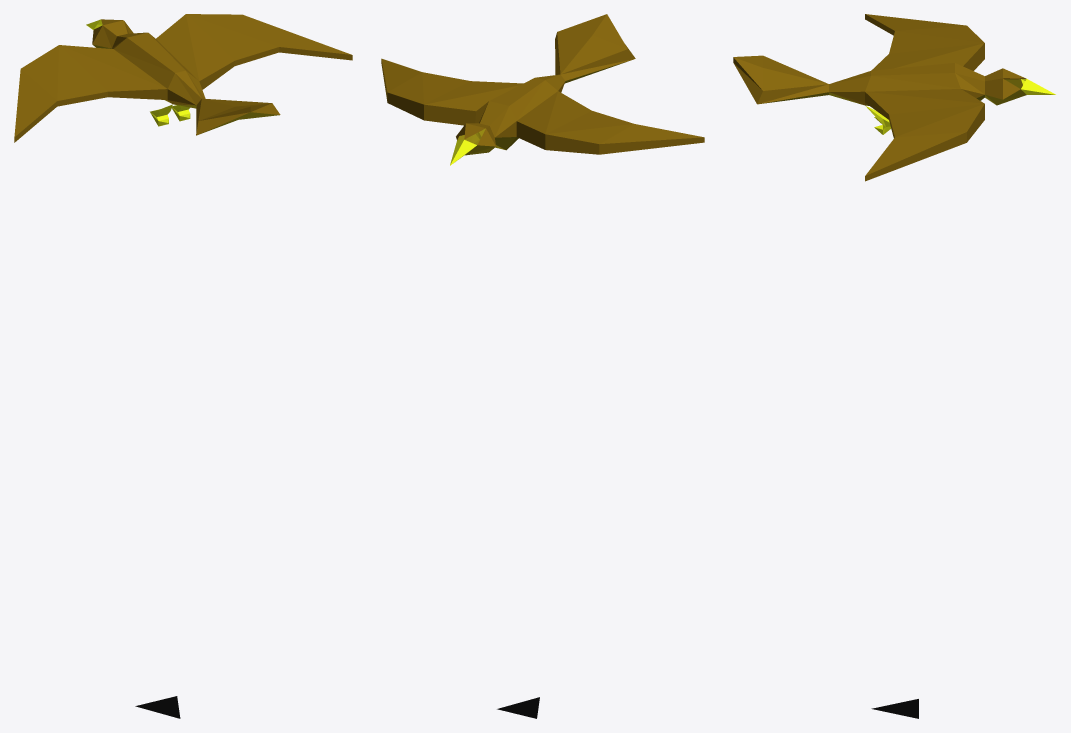
Rendered from gfx_72.obj.
3 views of the same model, side by side, from view 1: azimuth 30°, elevation 25°; view 2: azimuth 150°, elevation 25°; view 3: azimuth 270°, elevation 25° (orthographic). The views are drawn at different scales.
Size of the model in its own units: 1 by 1.88 by 0.8438.
